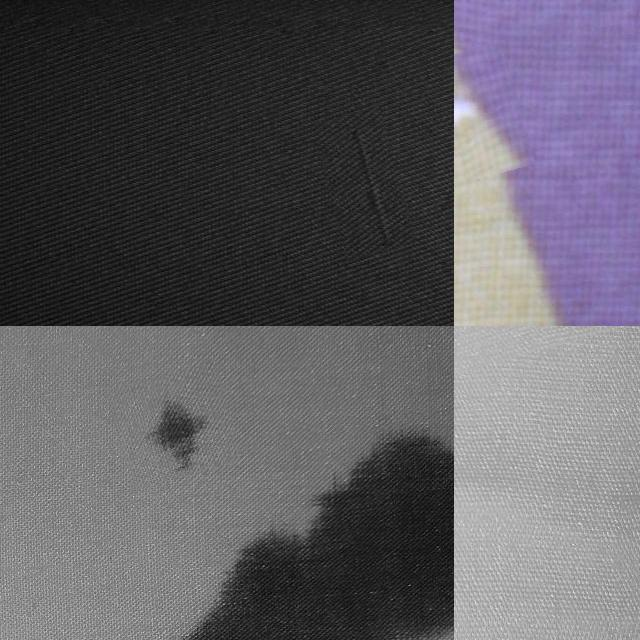Thread_other: (158, 377, 454, 640), (110, 368, 236, 484), (454, 326, 640, 392)
other: (454, 51, 528, 198)
stains: (319, 110, 409, 258)
